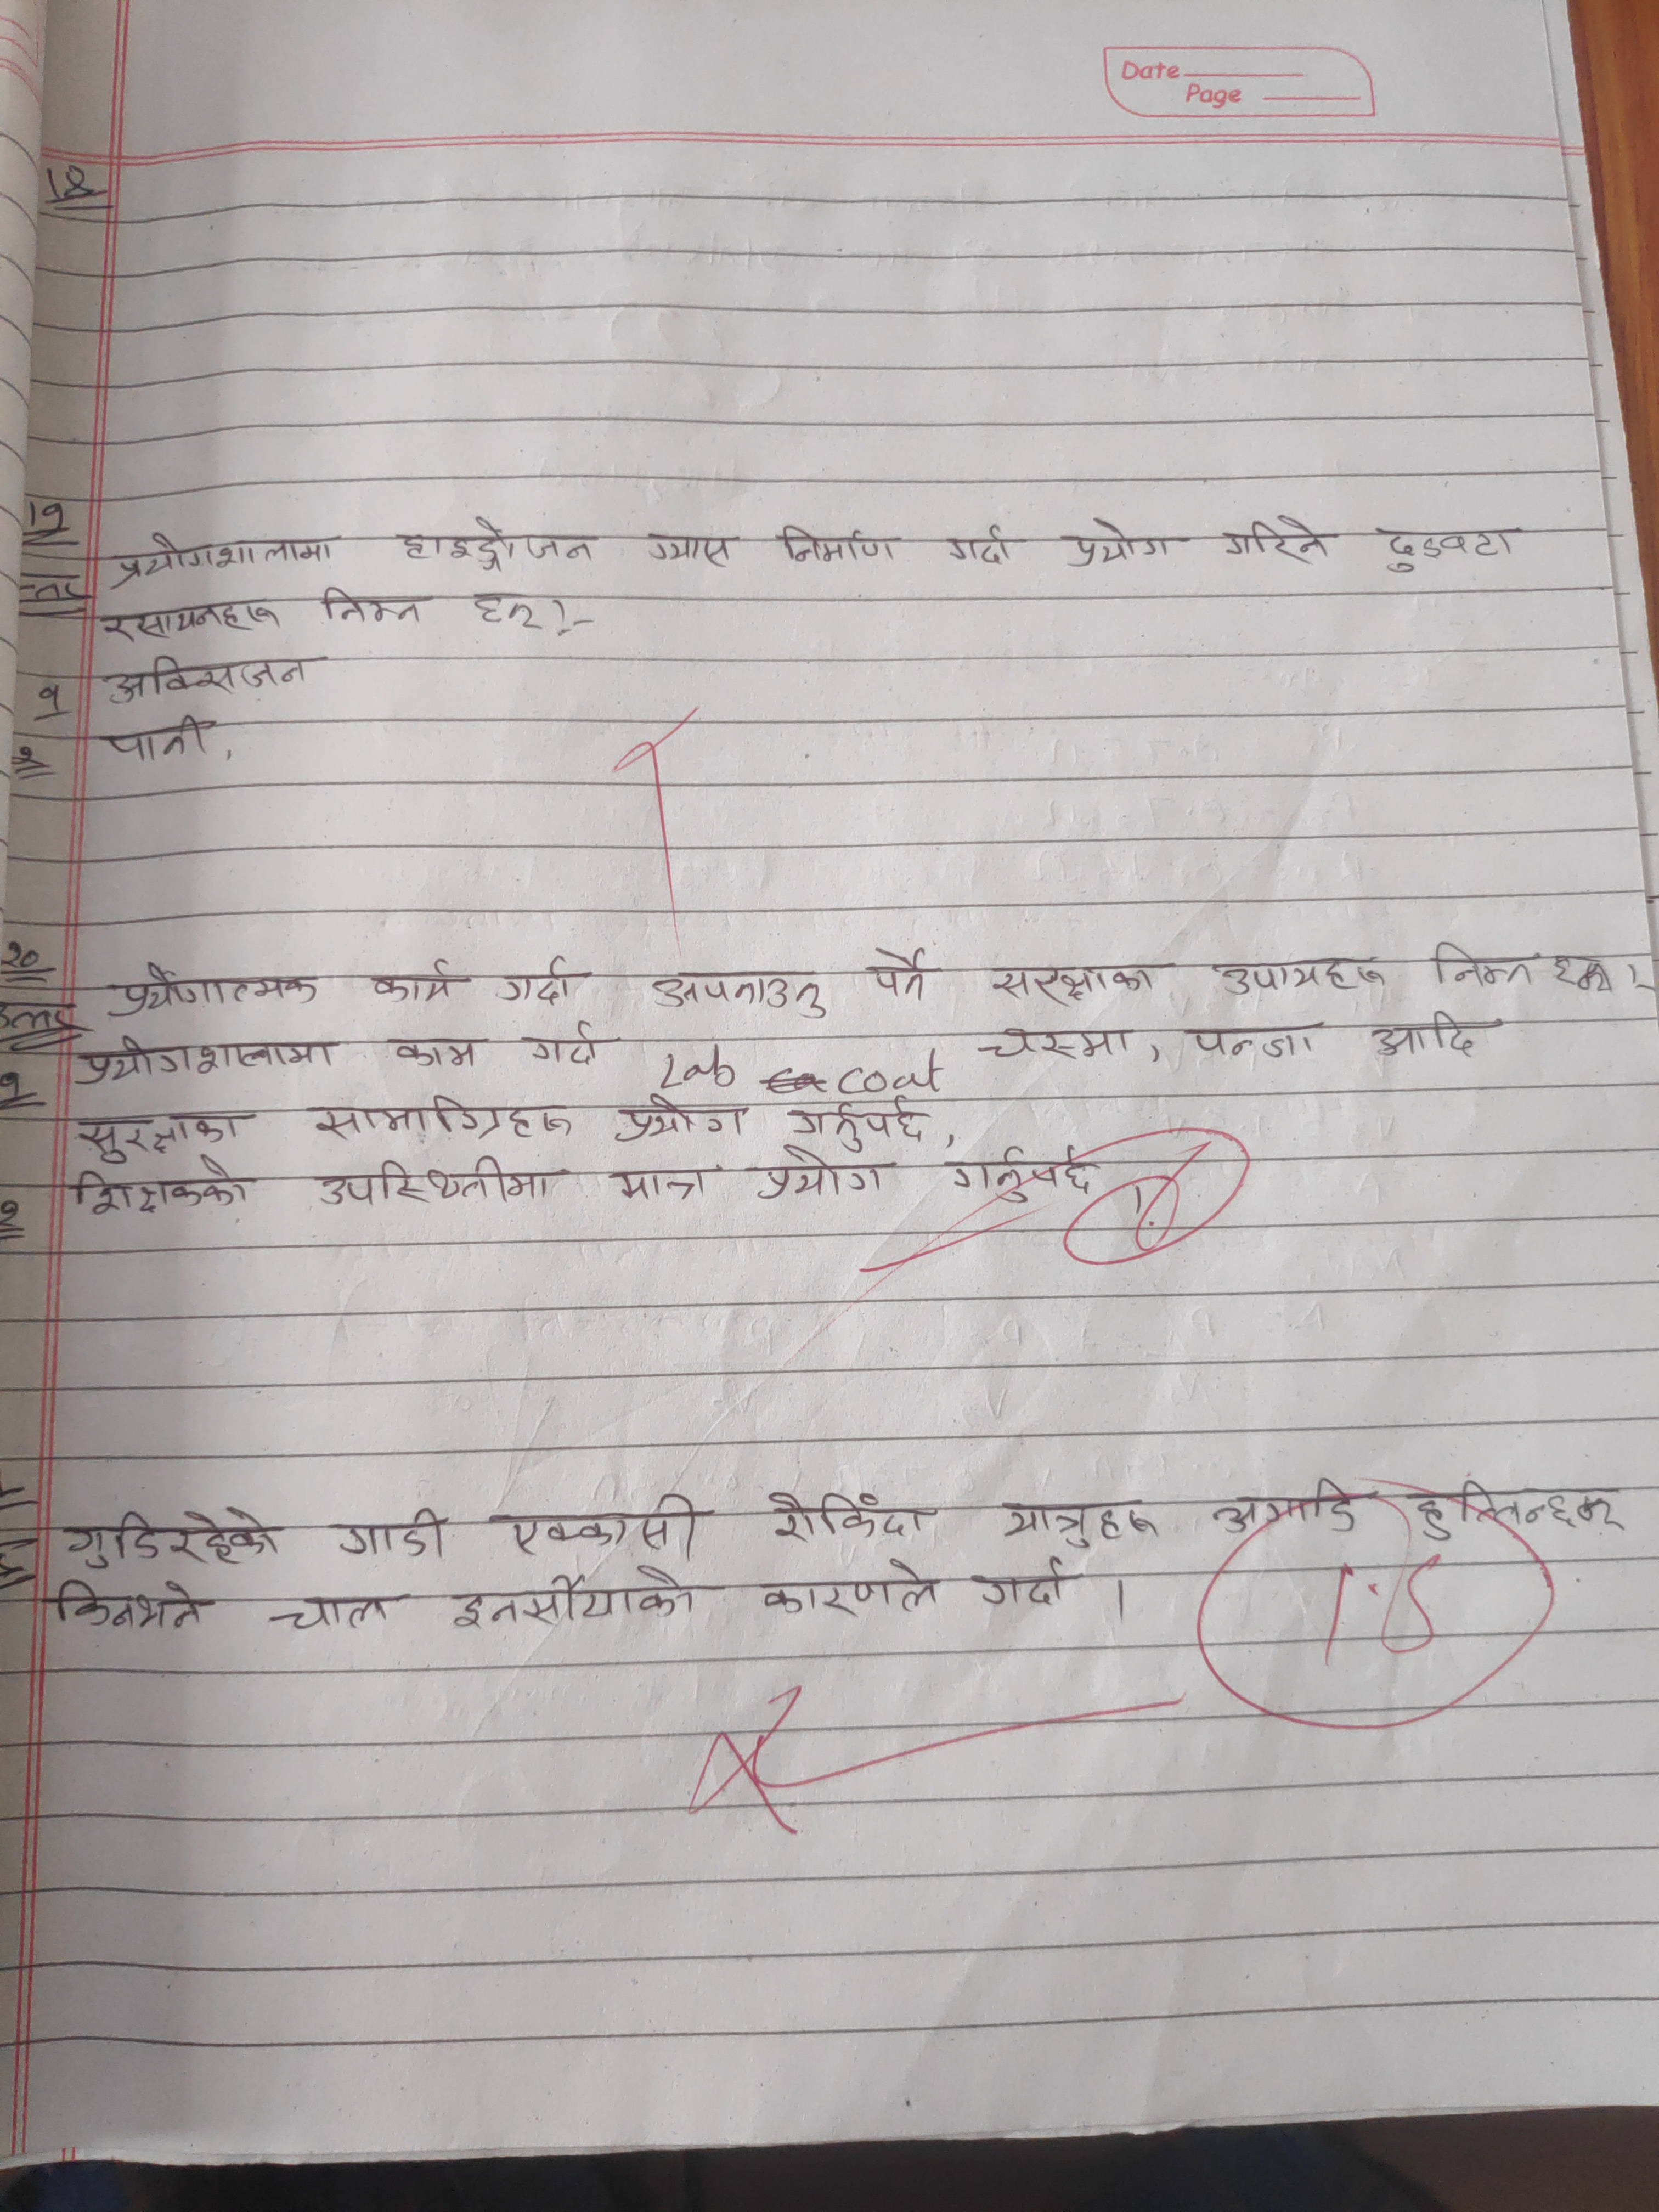text: (450, 1568, 701, 1630), (59, 1501, 289, 1568), (1403, 1477, 1635, 1541), (493, 1487, 699, 1559), (310, 1155, 563, 1211), (108, 956, 322, 1021), (75, 1036, 335, 1089), (310, 1092, 575, 1143), (390, 510, 606, 571), (106, 529, 340, 585), (51, 1573, 220, 1646), (66, 1158, 254, 1221), (749, 1562, 943, 1620), (765, 1482, 929, 1548), (99, 651, 319, 700), (645, 968, 833, 1024), (990, 1491, 1161, 1550), (64, 1109, 251, 1163), (951, 1141, 1100, 1207), (1201, 1479, 1366, 1538), (988, 953, 1164, 1007), (1370, 517, 1530, 573), (1213, 954, 1392, 1001), (98, 599, 284, 643), (788, 1101, 939, 1151), (976, 1019, 1136, 1064), (1370, 1005, 1490, 1064), (331, 1503, 444, 1566), (1175, 1014, 1323, 1061), (1060, 514, 1178, 571), (1429, 930, 1541, 991), (617, 1097, 756, 1146), (749, 1148, 889, 1197), (772, 519, 896, 571), (101, 712, 216, 768), (1223, 512, 1337, 568), (964, 1554, 1075, 1609), (274, 1590, 403, 1634), (312, 578, 430, 625), (857, 935, 936, 1005), (389, 1019, 486, 1075), (601, 1155, 713, 1204), (634, 524, 737, 575), (523, 1010, 606, 1068), (491, 953, 572, 1010), (369, 956, 464, 1005), (471, 583, 552, 632), (1544, 942, 1619, 995), (939, 526, 1016, 575)
